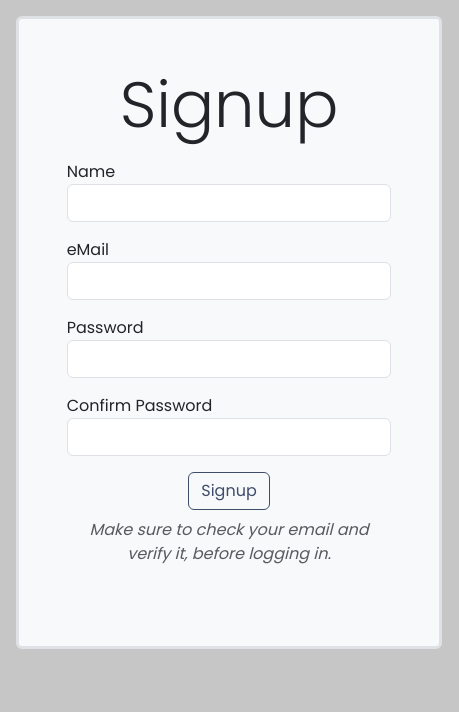
it: Signup Component › displays error message when signup fails
Type "Fail User" into the field labelled "Name" at coordinates (229, 203), box [67,184,391,222]
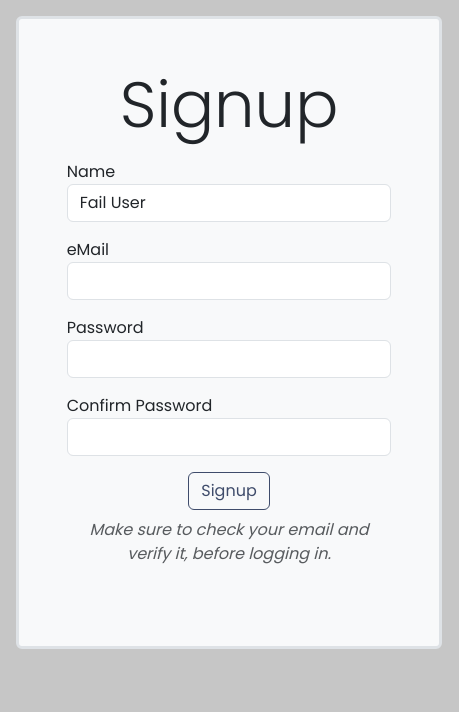
Type "fail@example.com" into the field labelled "eMail" at coordinates (229, 281), box [67,262,391,300]
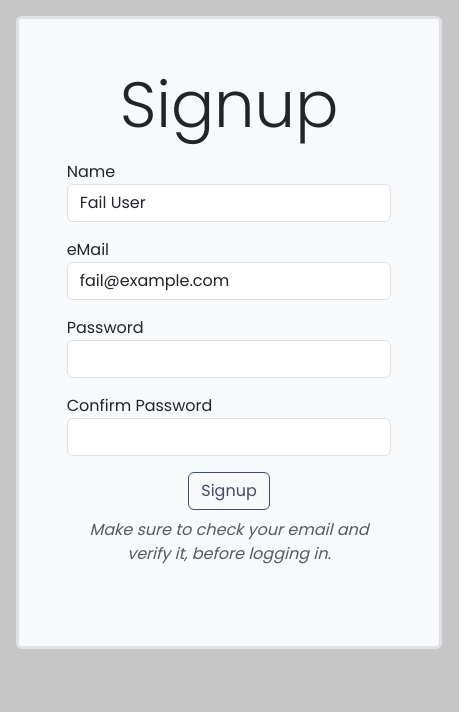
Type "badpw" into the password field labelled "Password" at coordinates (229, 359), box [67,340,391,378]
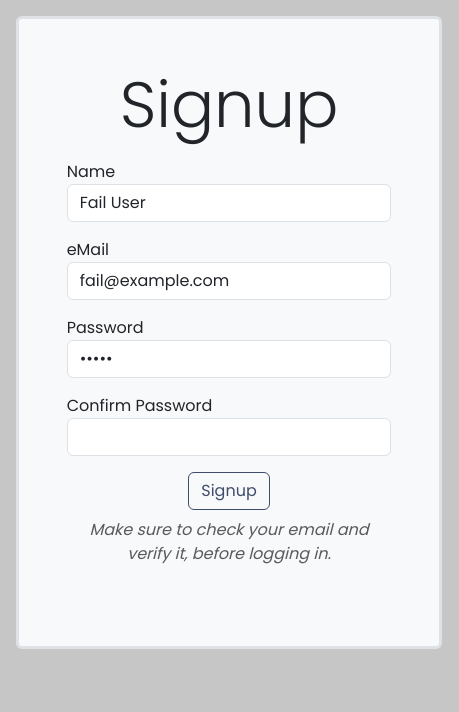
Click the button "Signup" at coordinates (229, 491), box [188,472,270,510]
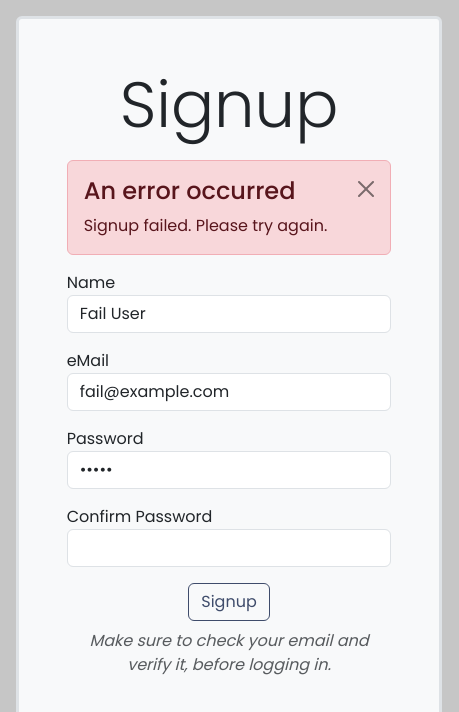
Expected: the text "An error occurred Signup failed. Please try again." is shown, [67,160,391,255]
Expected: the heading "An error occurred" is shown, [84,174,296,207]
